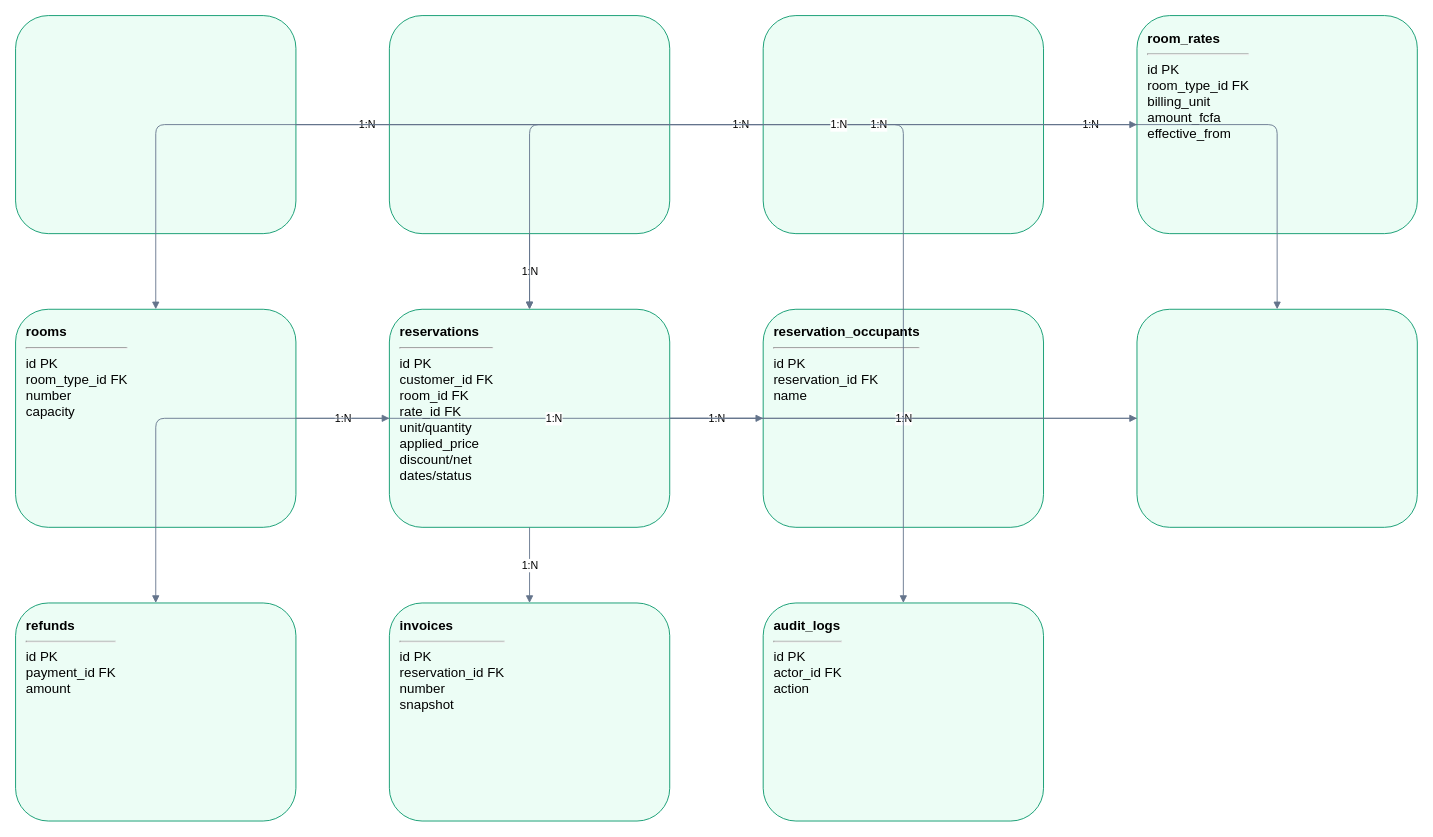
The diagram is 1433 pixels wide and 837 high, and some of its shapes have lost their labels. The shapes that lost their labels are listed below. From the top down, each one's box as (x1, y1, x2, y2) in pixels, then its label:
(15, 15, 296, 234): users id PK name email role
(388, 15, 670, 234): customers id PK name phone
(762, 15, 1044, 234): room_types id PK code VIP/STANDARD
(1136, 308, 1417, 527): payments id PK reservation_id FK cashier_id FK amount/status
